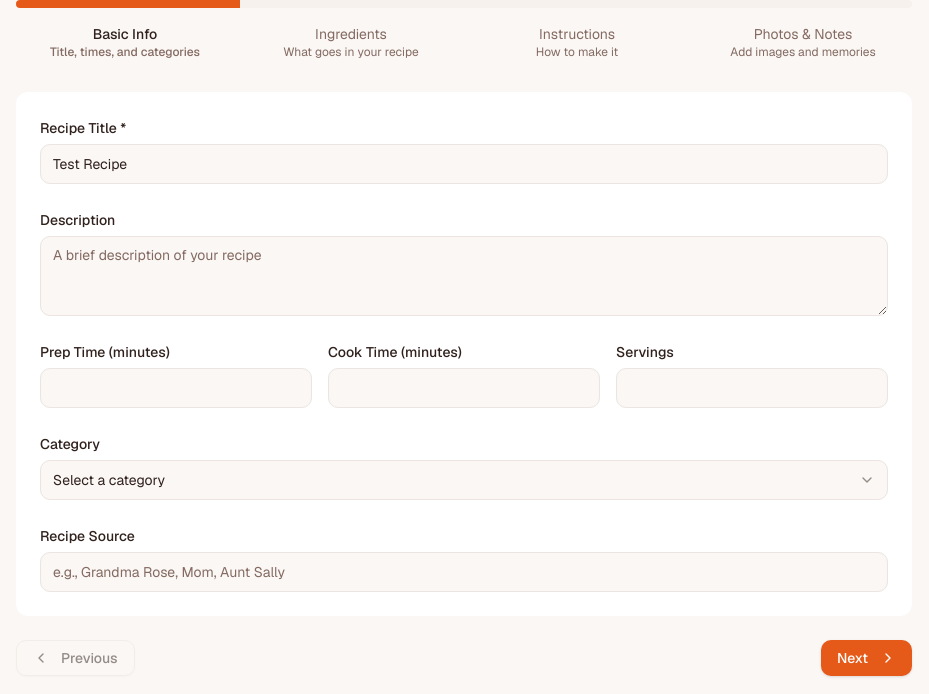
Test: RecipeFormWizard › shows submit button on last step
Note: Navigate to last step
Click the button "Next" at (866, 658), box [821,640,912,676]
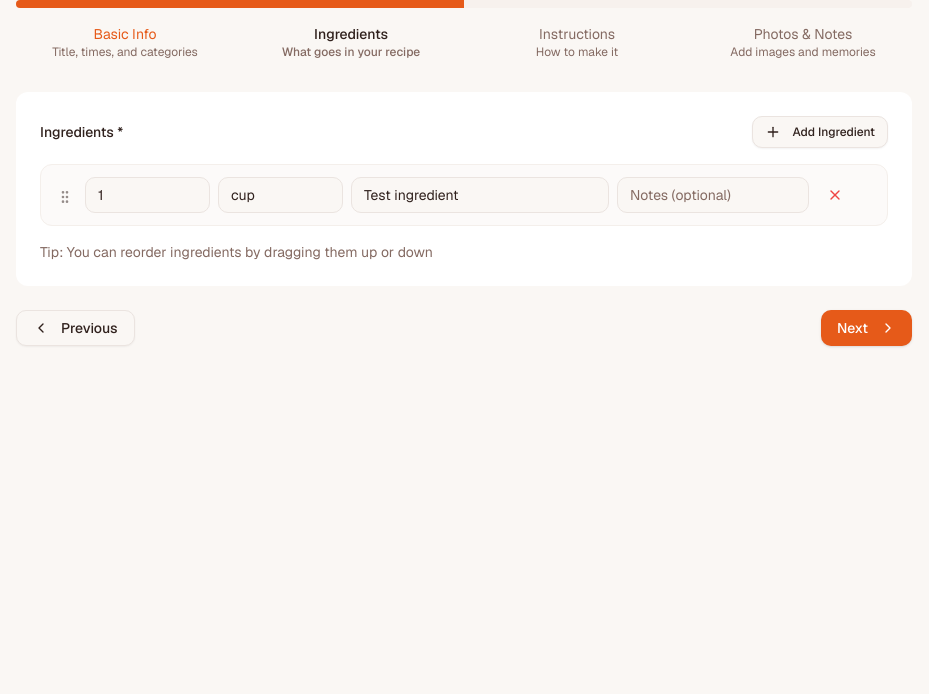
Click the button "Next" at (866, 328), box [821,310,912,346]
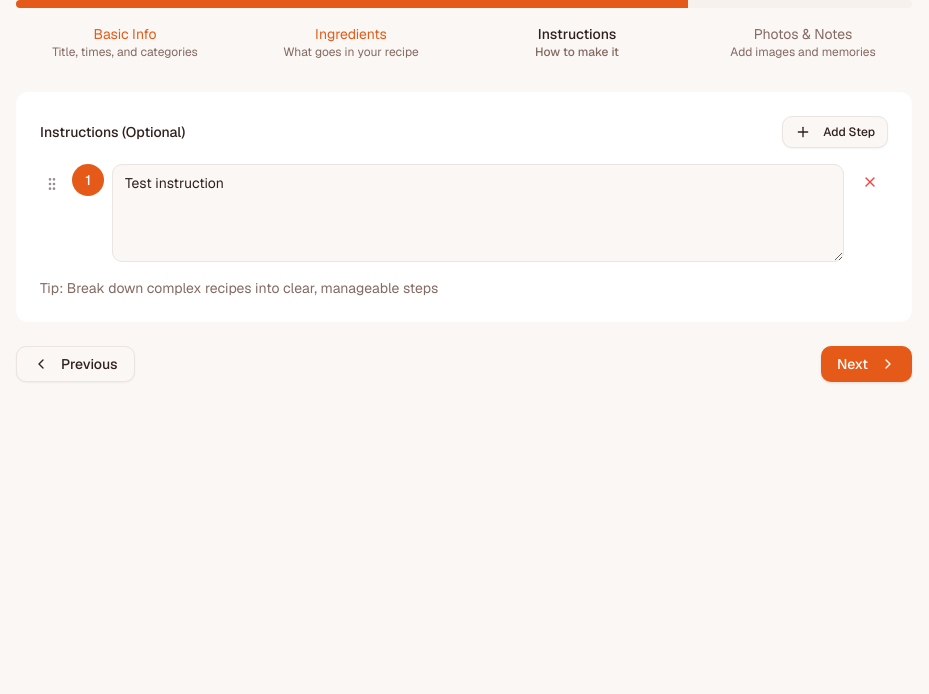
Click the button "Next" at (866, 364), box [821,346,912,382]
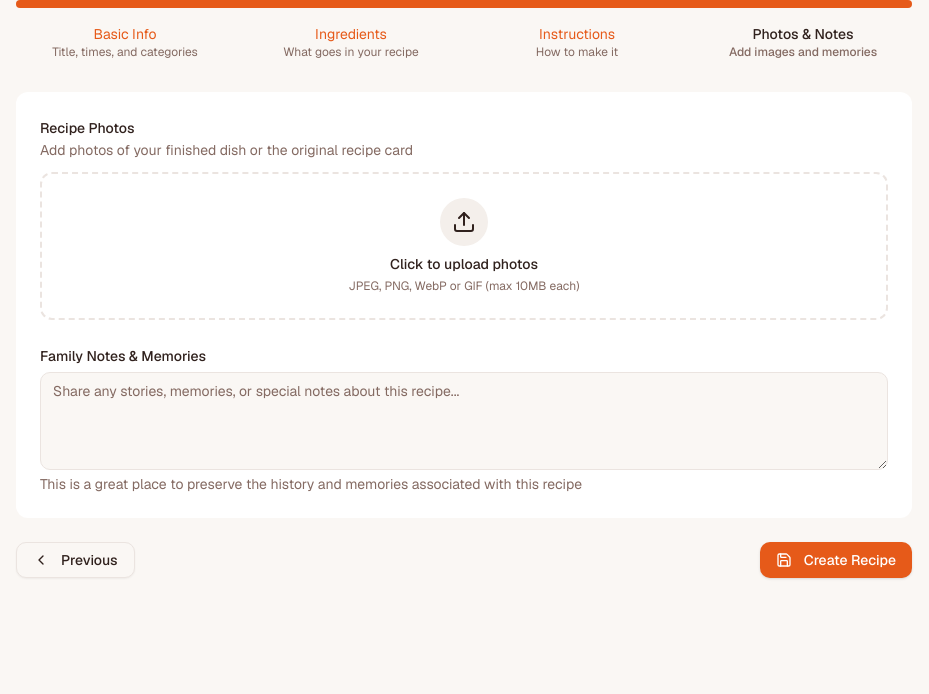
Expected: the button "Create Recipe" is shown, [760,542,912,578]
Expected: the button "Next" is gone
